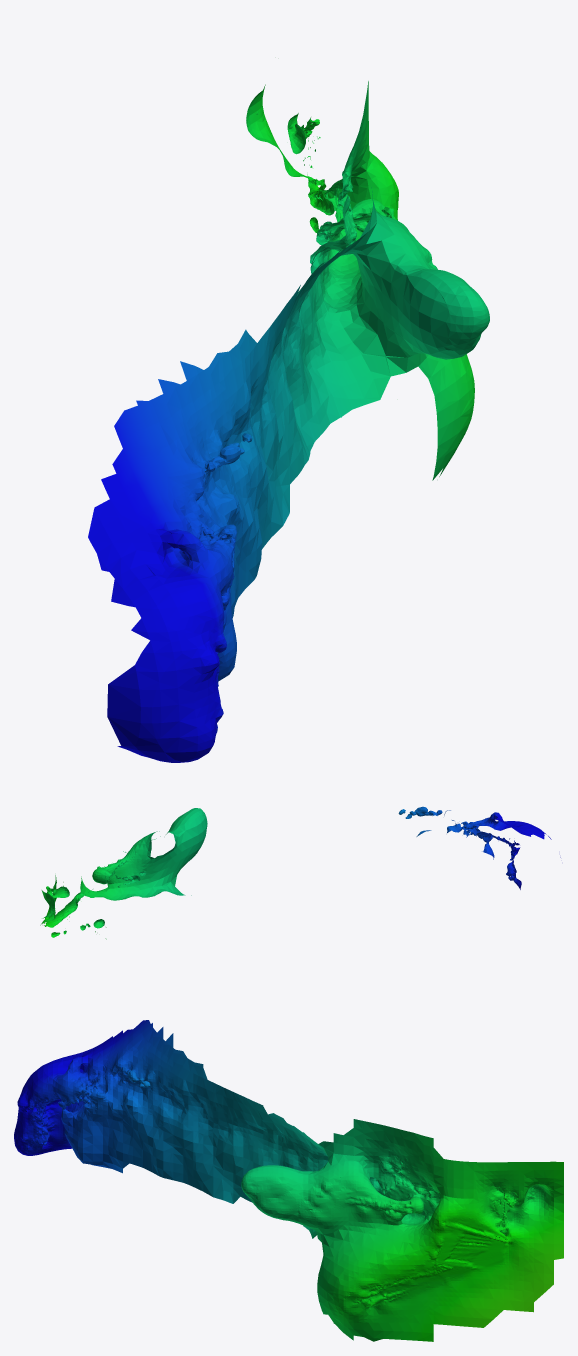
3 views of the same model, one above another, from view 1: azimuth 30°, elevation 25°; view 2: azimuth 150°, elevation 25°; view 3: azimuth 270°, elevation 25° (orthographic). The views are drawn at different scales.
Visible parts, largest first — view 1: geometry_0; view 2: geometry_0; view 3: geometry_0.
Part boxes in pixels (x1=…): geometry_0: x1=88, y1=81, x2=489, y2=762; geometry_0: x1=40, y1=806, x2=560, y2=939; geometry_0: x1=14, y1=1020, x2=563, y2=1341.
Size of the model in its own units: 2.82 by 1.54 by 3.7.
